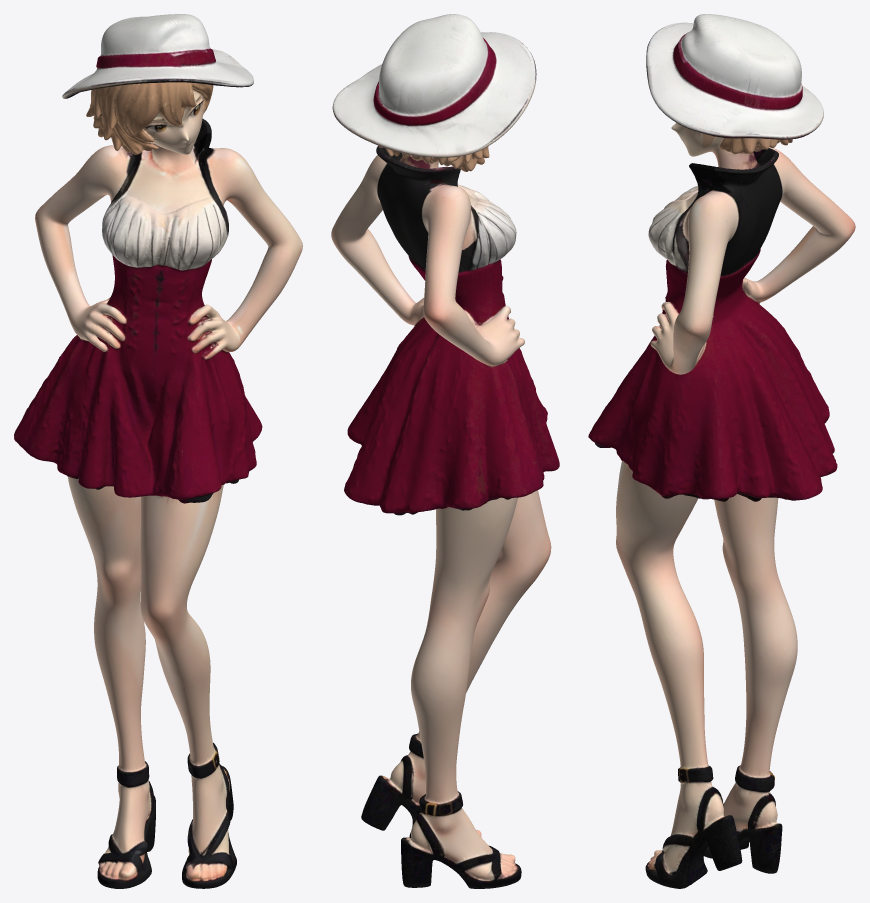
File: Luna_V3Meshy_AI_Crimson_Serenade_0504075612_texture.glb
3 renders of one model, left to right at view 1: azimuth 30°, elevation 25°; view 2: azimuth 150°, elevation 25°; view 3: azimuth 270°, elevation 25°, orthographic.
Parts seen in each view (by area): view 1: Mesh_0; view 2: Mesh_0; view 3: Mesh_0.
Boxes of the visible parts, x1,y1,x2,y2 form: Mesh_0: (14,14,302,888); Mesh_0: (331,14,559,888); Mesh_0: (588,14,855,888).
Bounding box in the file's own units: 0.5639 × 1.9 × 0.5428.
1 material, 1 textured.
